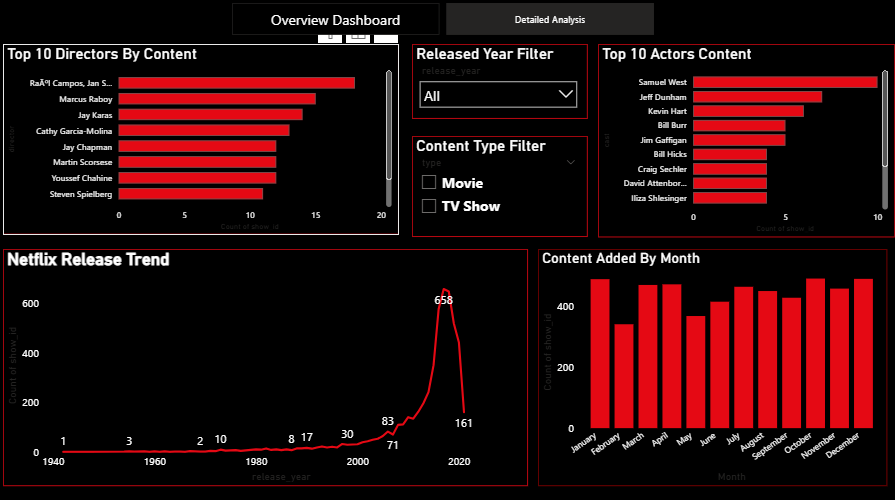

This screenshot's page, from the dashboard's own definition file:
{"tool":"powerbi","page":{"name":"Detailed Analysis","canvas":[1280,720],"ordinal":1},"visuals":[{"type":"barChart","title":"Top 10 Directors By Content","fields":{"Category":["netflix_titles.director"],"Y":["CountNonNull(netflix_titles.show_id)"]},"box":[15.6,69.4,561,270],"z":0},{"type":"lineChart","title":"Netflix Release Trend","fields":{"Category":["netflix_titles.release_year"],"Y":["CountNonNull(netflix_titles.show_id)"]},"box":[15.6,360,744.1,335.9],"z":1000},{"type":"slicer","title":"Released Year Filter","fields":{"Values":["netflix_titles.release_year"]},"box":[595.3,69.4,249.4,106.3],"z":2000},{"type":"slicer","title":"Content Type Filter","fields":{"Values":["netflix_titles.type"]},"box":[595.3,199.8,249.4,143.1],"z":3000},{"type":"barChart","title":"Top 10 Actors Content","fields":{"Category":["netflix_titles.cast"],"Y":["CountNonNull(netflix_titles.show_id)"]},"box":[858.9,69.4,420.9,273.5],"z":4000},{"type":"clusteredColumnChart","title":"Content Added By Month","fields":{"Category":["netflix_titles.date_added.Variation.Date Hierarchy.Month"],"Y":["CountNonNull(netflix_titles.show_id)"]},"box":[773.9,360,494.6,335.9],"z":5000},{"type":"pageNavigator","box":[340.2,11.3,599.5,45.4],"z":6000}]}

Visuals, with their boxes in screenshot pixels (x1, y1, x2, y2), scaled from the page's 1280x720 canvas onto the 895x500 screenshot:
"Top 10 Directors By Content" barChart: x1=11, y1=48, x2=403, y2=236
"Netflix Release Trend" lineChart: x1=11, y1=250, x2=531, y2=483
"Released Year Filter" slicer: x1=416, y1=48, x2=591, y2=122
"Content Type Filter" slicer: x1=416, y1=139, x2=591, y2=238
"Top 10 Actors Content" barChart: x1=601, y1=48, x2=894, y2=238
"Content Added By Month" clusteredColumnChart: x1=541, y1=250, x2=887, y2=483
pageNavigator: x1=238, y1=8, x2=657, y2=39
